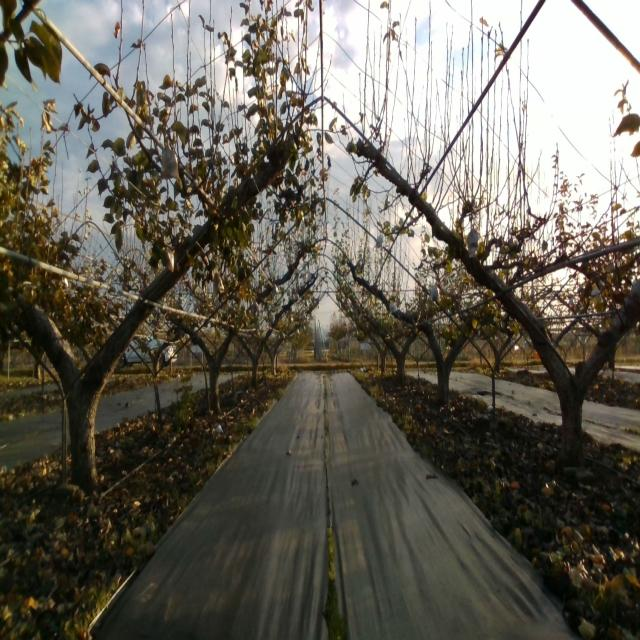pearbags: (161, 137, 180, 182), (466, 223, 479, 259), (431, 282, 442, 305)
